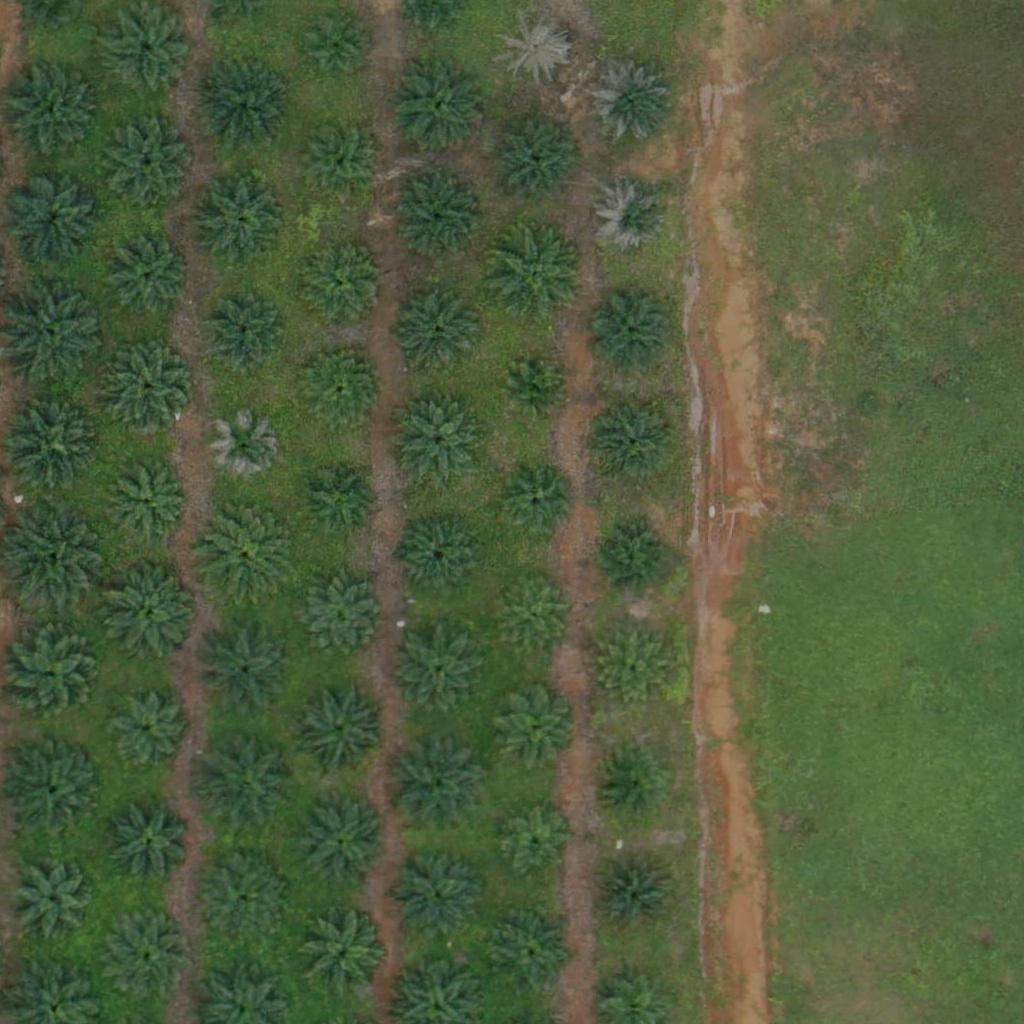Kelapa_Sawit: (1, 61, 101, 162), (4, 169, 104, 270), (2, 393, 102, 494), (200, 502, 300, 603), (383, 736, 483, 837), (288, 567, 388, 668), (288, 677, 388, 778), (194, 617, 294, 718), (390, 57, 490, 157), (489, 111, 589, 211), (489, 225, 589, 325), (197, 733, 297, 833), (102, 561, 202, 661), (1, 623, 101, 723), (5, 739, 105, 839), (106, 123, 194, 212), (296, 347, 384, 436), (398, 514, 486, 603), (297, 454, 385, 542), (200, 66, 288, 154), (197, 179, 285, 267), (299, 245, 387, 333), (585, 59, 673, 147), (587, 289, 675, 377), (588, 400, 676, 488), (491, 909, 579, 997), (393, 628, 481, 716), (392, 853, 480, 941), (105, 690, 193, 778), (489, 681, 576, 769), (592, 853, 679, 941), (103, 237, 190, 325), (106, 347, 193, 435), (395, 174, 482, 262), (394, 290, 481, 378), (395, 400, 482, 488), (297, 801, 384, 889), (300, 912, 387, 1000), (200, 861, 287, 949), (12, 853, 99, 941), (112, 464, 187, 540), (496, 10, 571, 86), (597, 180, 672, 256), (114, 807, 189, 883), (112, 918, 187, 994), (302, 129, 377, 204), (502, 465, 577, 540), (500, 807, 575, 882), (592, 628, 667, 703), (599, 520, 674, 595), (206, 297, 281, 372), (208, 411, 283, 486), (494, 576, 569, 651), (304, 9, 367, 72), (597, 751, 660, 814), (504, 360, 567, 423)
